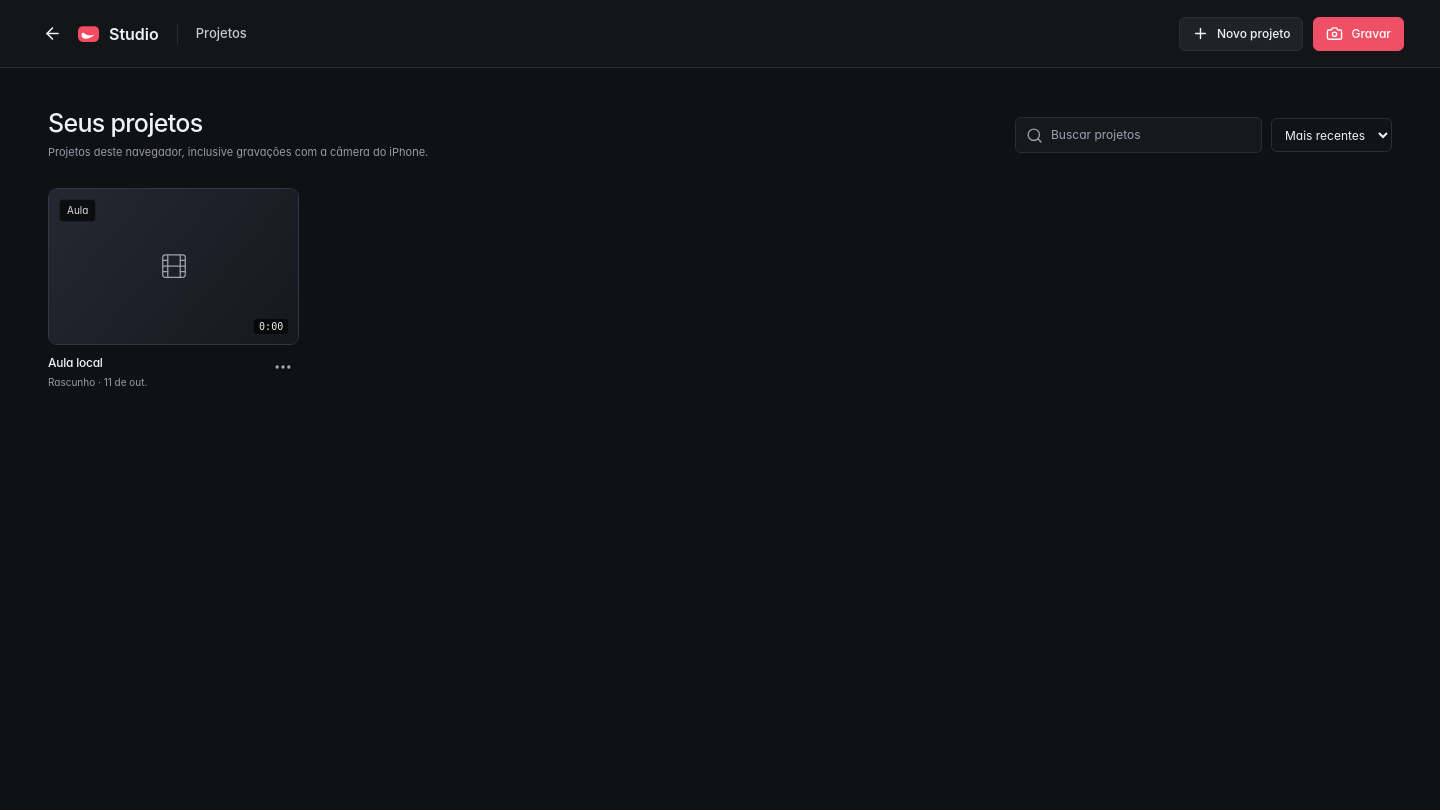
galeria desktop de projetos reais › trocar a conta cancela o diálogo e um botão antigo não apaga dados da conta nova
The width and height of the screenshot is (1440, 810).
Earlier steps of the test are not shown.
Later steps or results of the test are not shown.
Click the button named "Opções de Aula local": click(283, 367) [267,351,299,383]
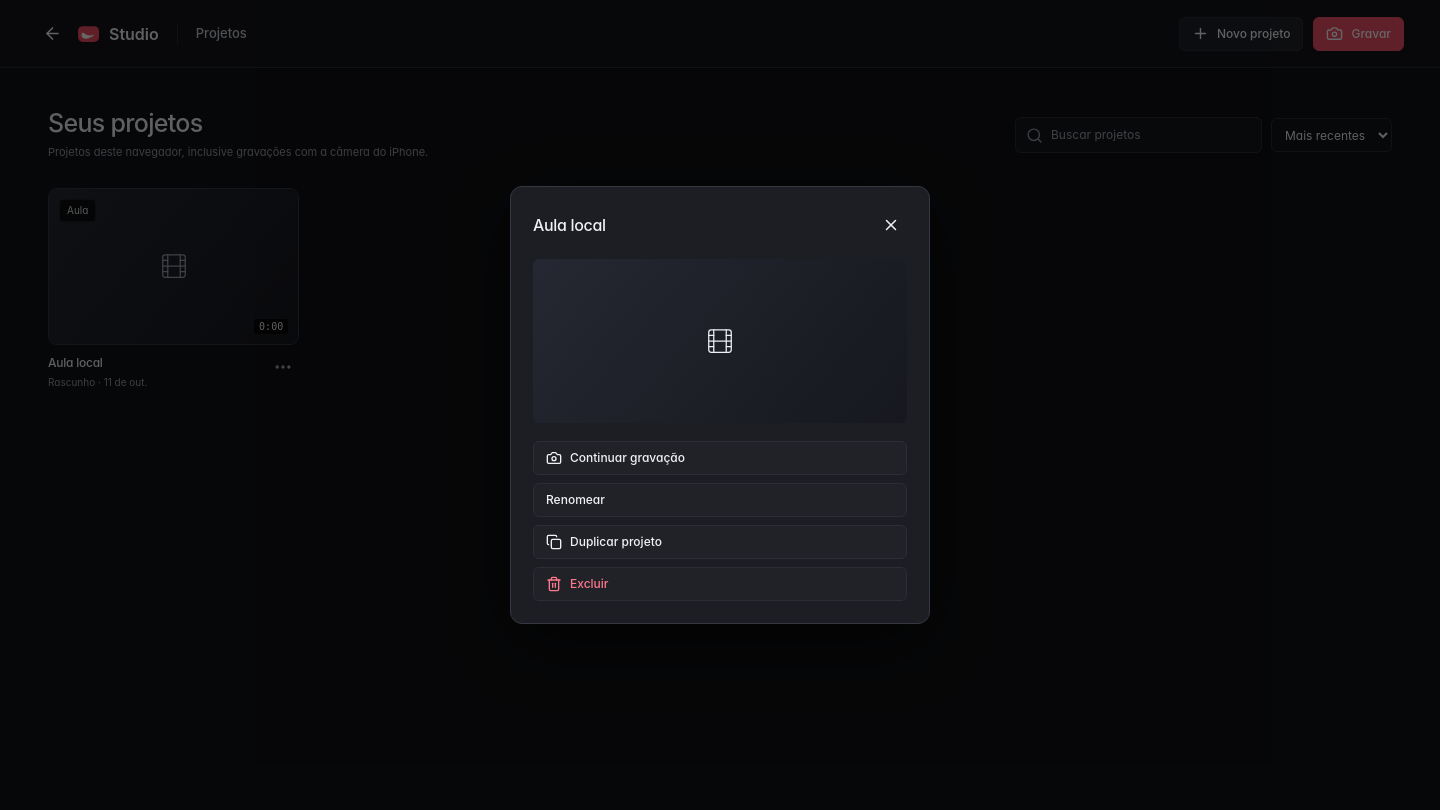
Expected: the button "Excluir" is shown
Click the button "Excluir": click(589, 583) [533,567,907,601]
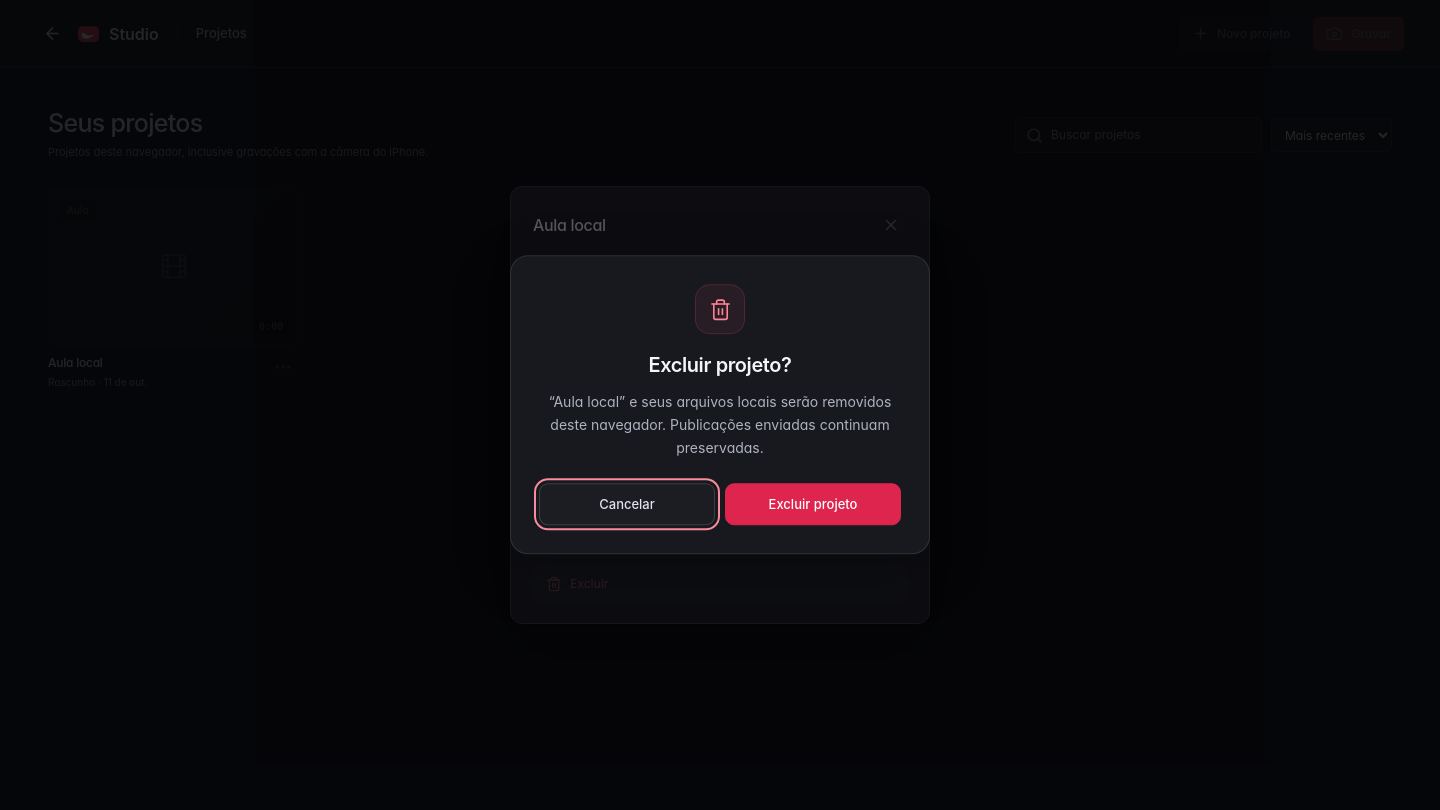
Expected: the button "Excluir projeto" is shown, [725,484,901,526]
